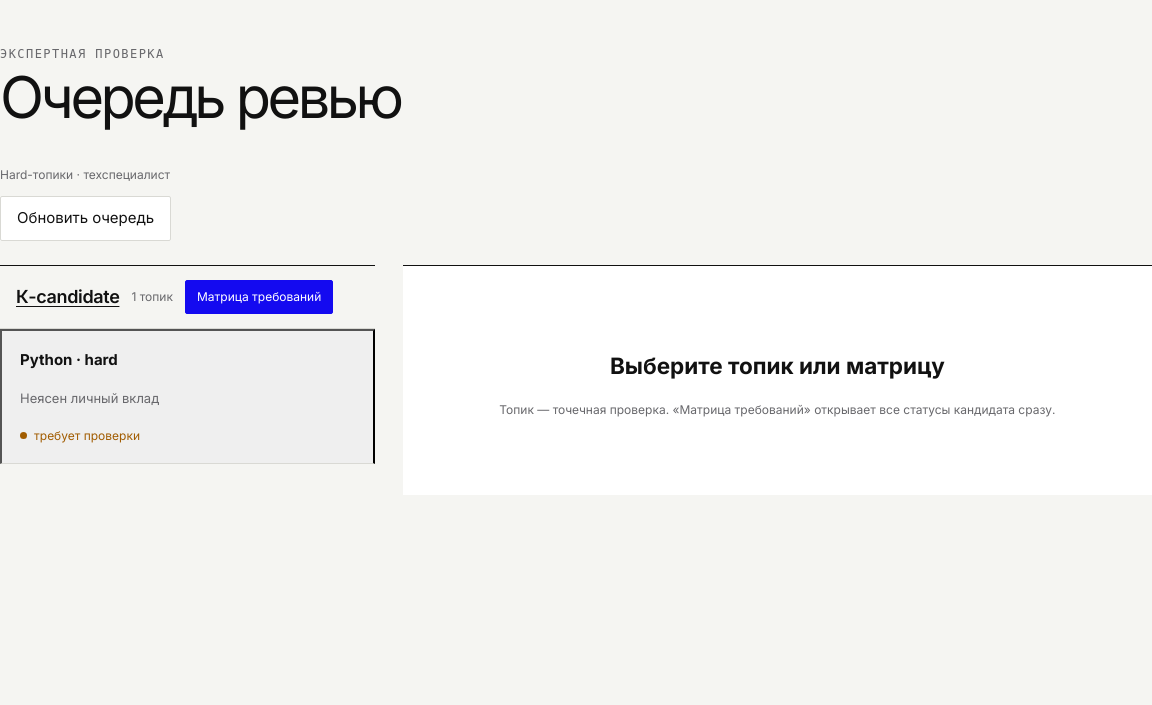
retains the form on failed save and does not refresh the card prematurely
Click the button with aria-label "К-candidate: Python · hard": (46, 359) [0,329,375,464]
(page scrolled)
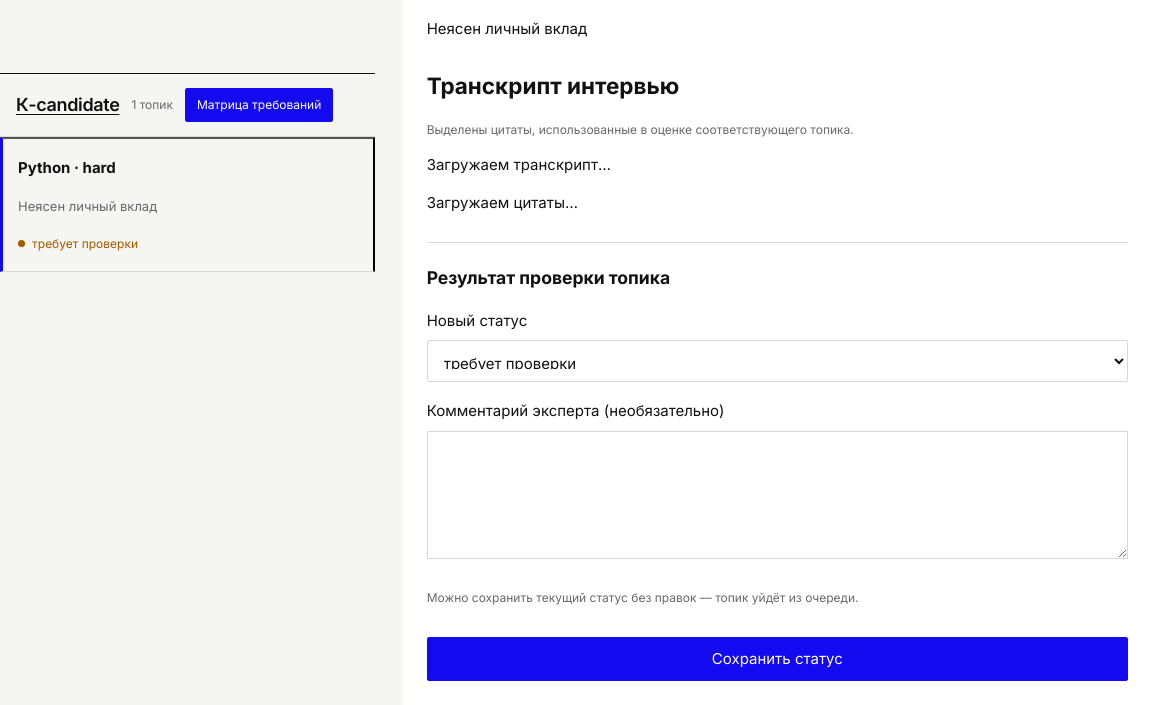
In the text box labelled "Комментарий эксперта (необязательно)": (777, 495) [427,431,1128,559], type "Проверил"
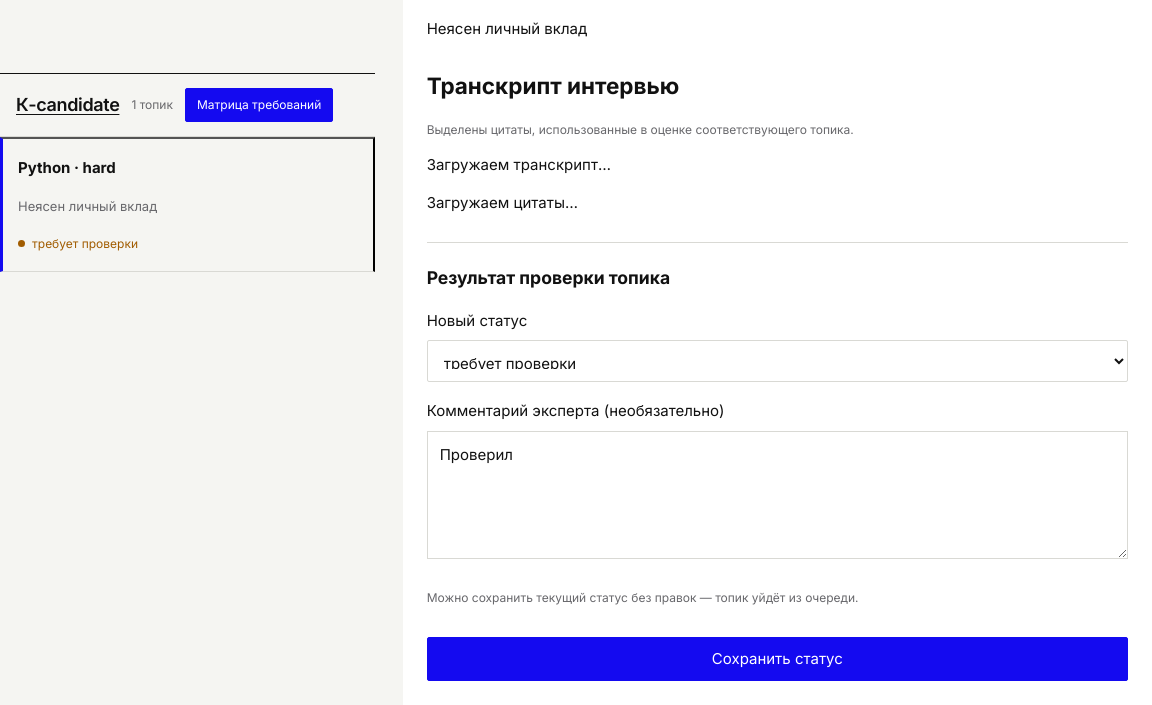
Click the button "Сохранить статус": (777, 659) [427,637,1128,681]
(page scrolled)
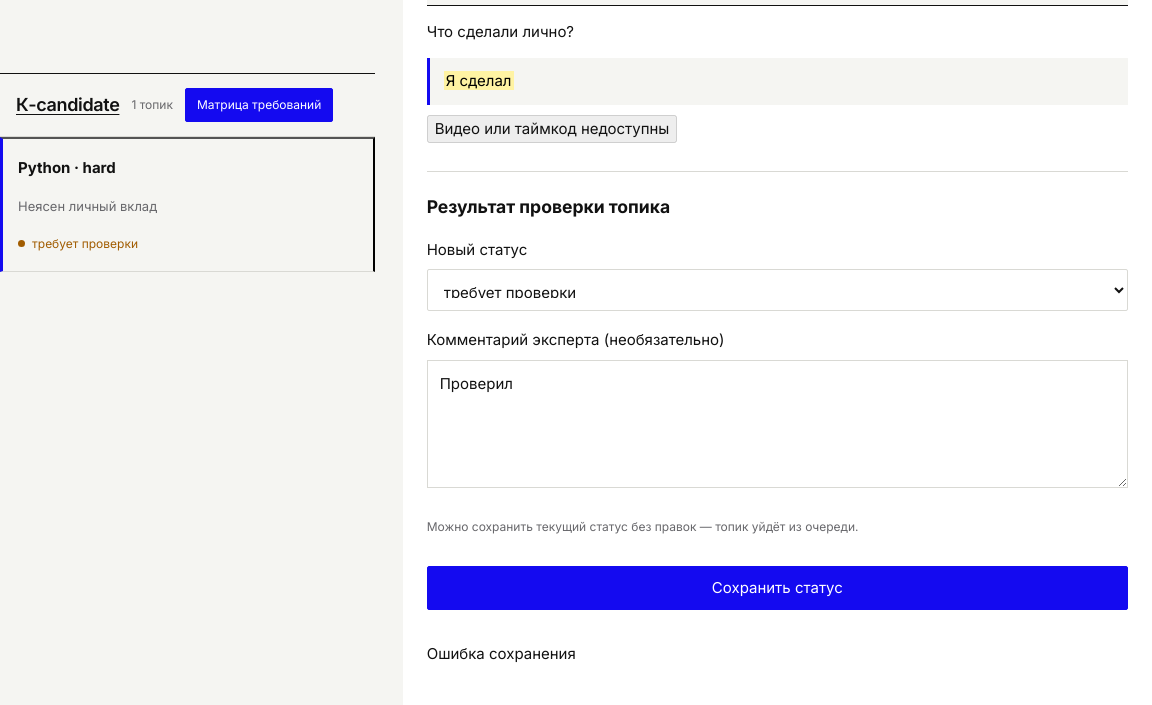
Expected: the message "Ошибка сохранения" is shown, [427,644,576,663]
